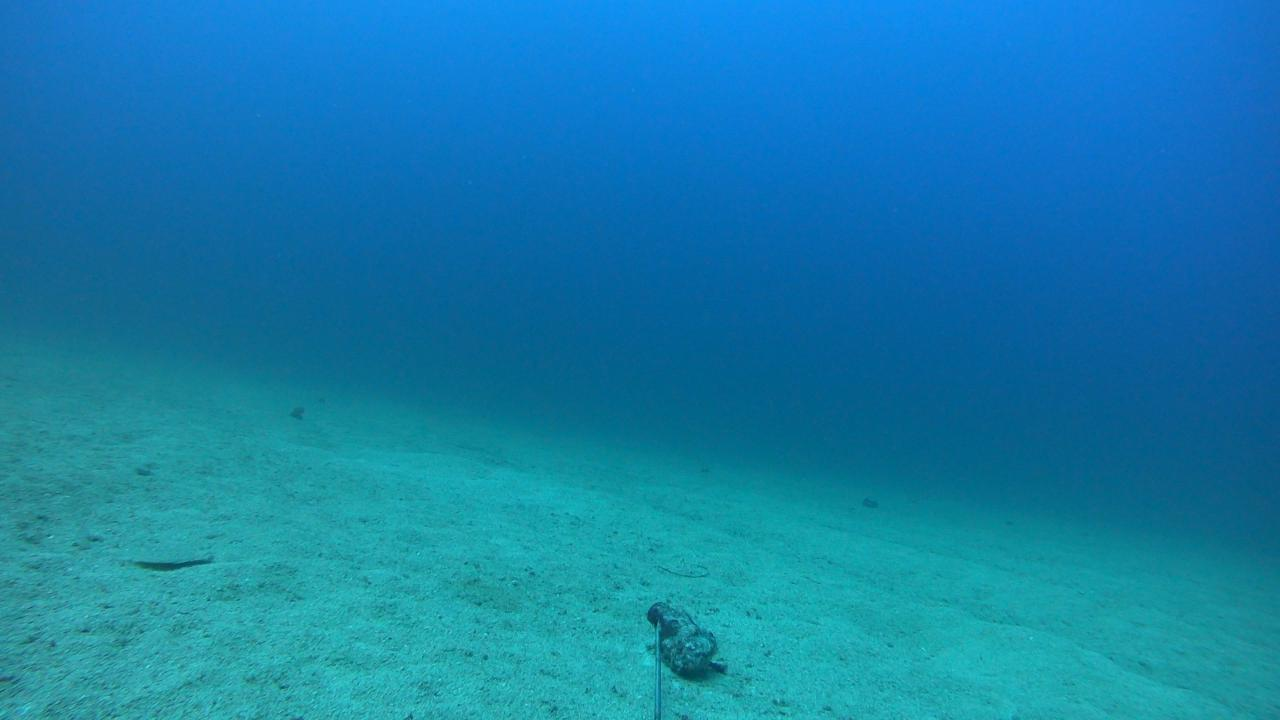bothus: (114, 542, 216, 576)
